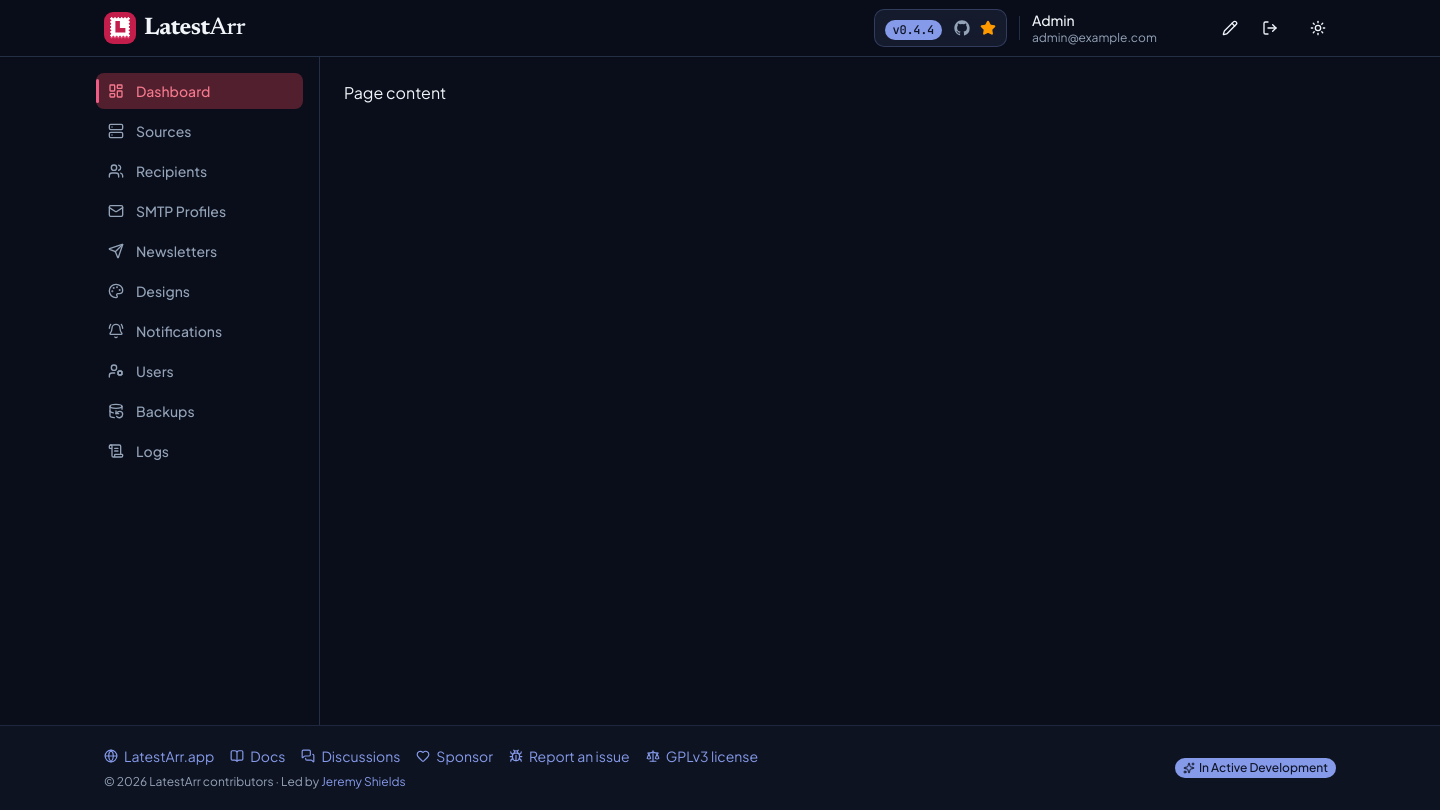
Test: AppShell › edits the display name through the Edit profile dialog
The image size is (1440, 810).
Check: the text "Admin" is shown, box x1=1032 y1=10 x2=1075 y2=30
Click the button named "Edit profile" at (1230, 28), box x1=1212 y1=10 x2=1248 y2=46
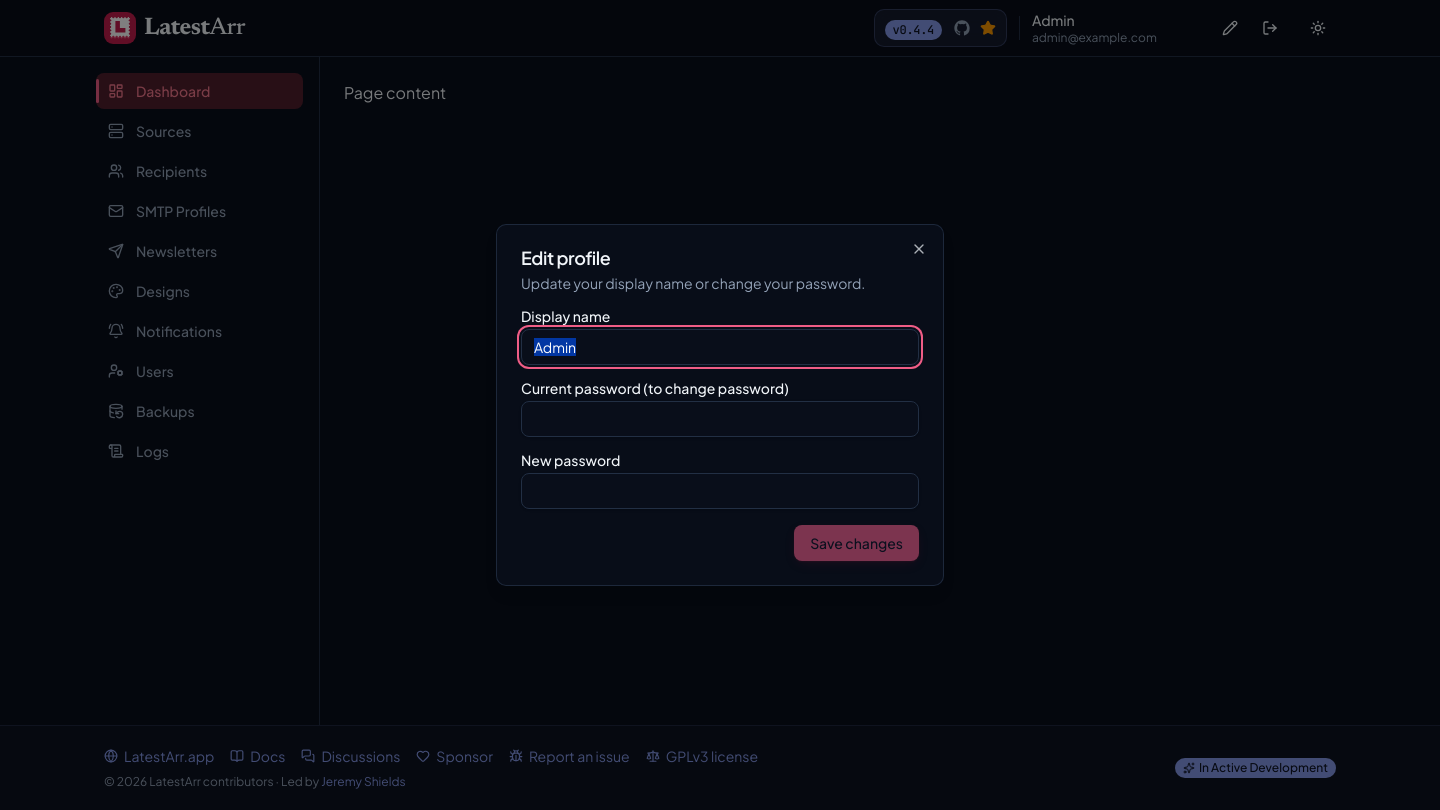
Check: the field labelled "Display name" holds "Admin"
Replace the text in the field labelled "Display name" with "New Name" at (720, 347), box x1=521 y1=329 x2=919 y2=365
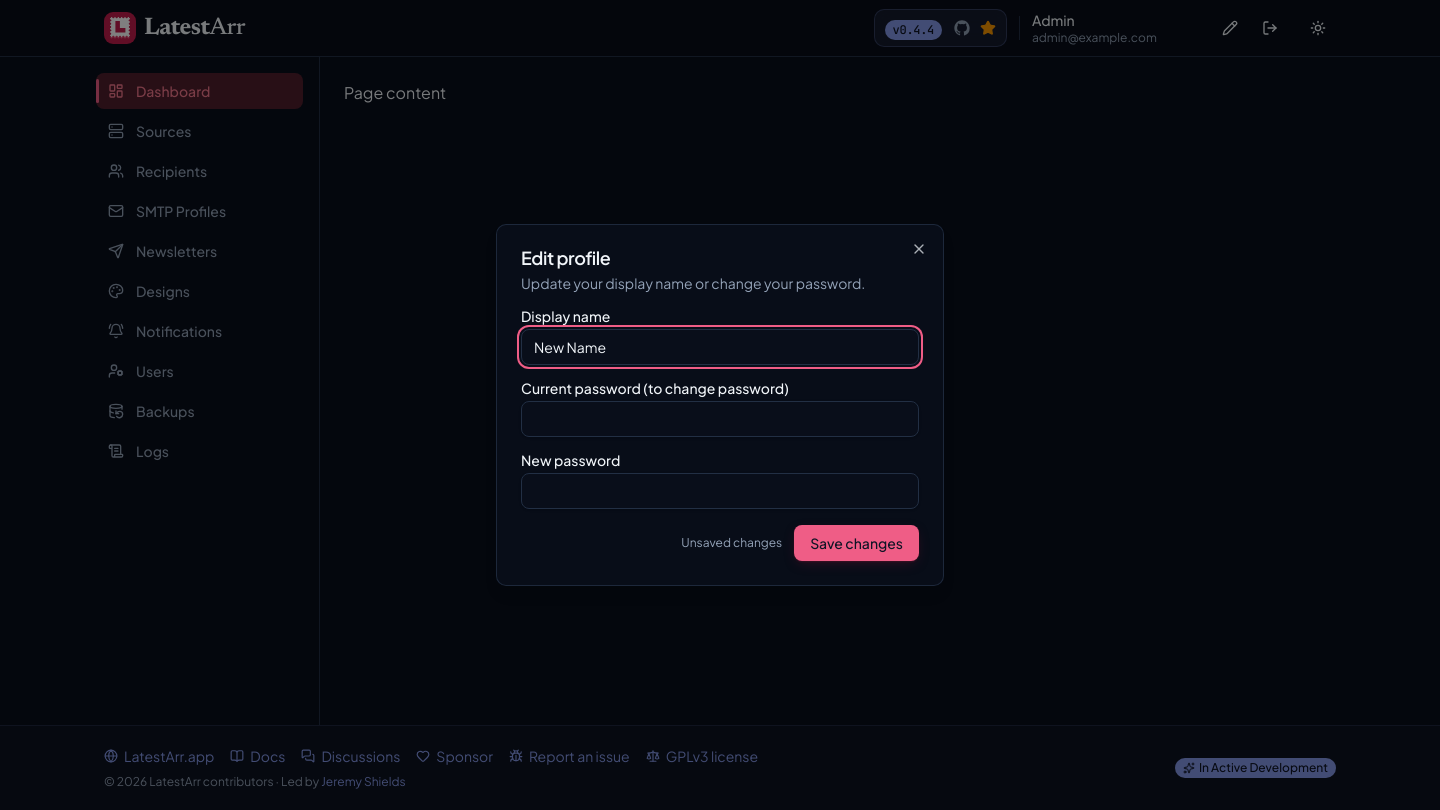
Click the button "Save changes" at (857, 543), box x1=794 y1=525 x2=919 y2=561
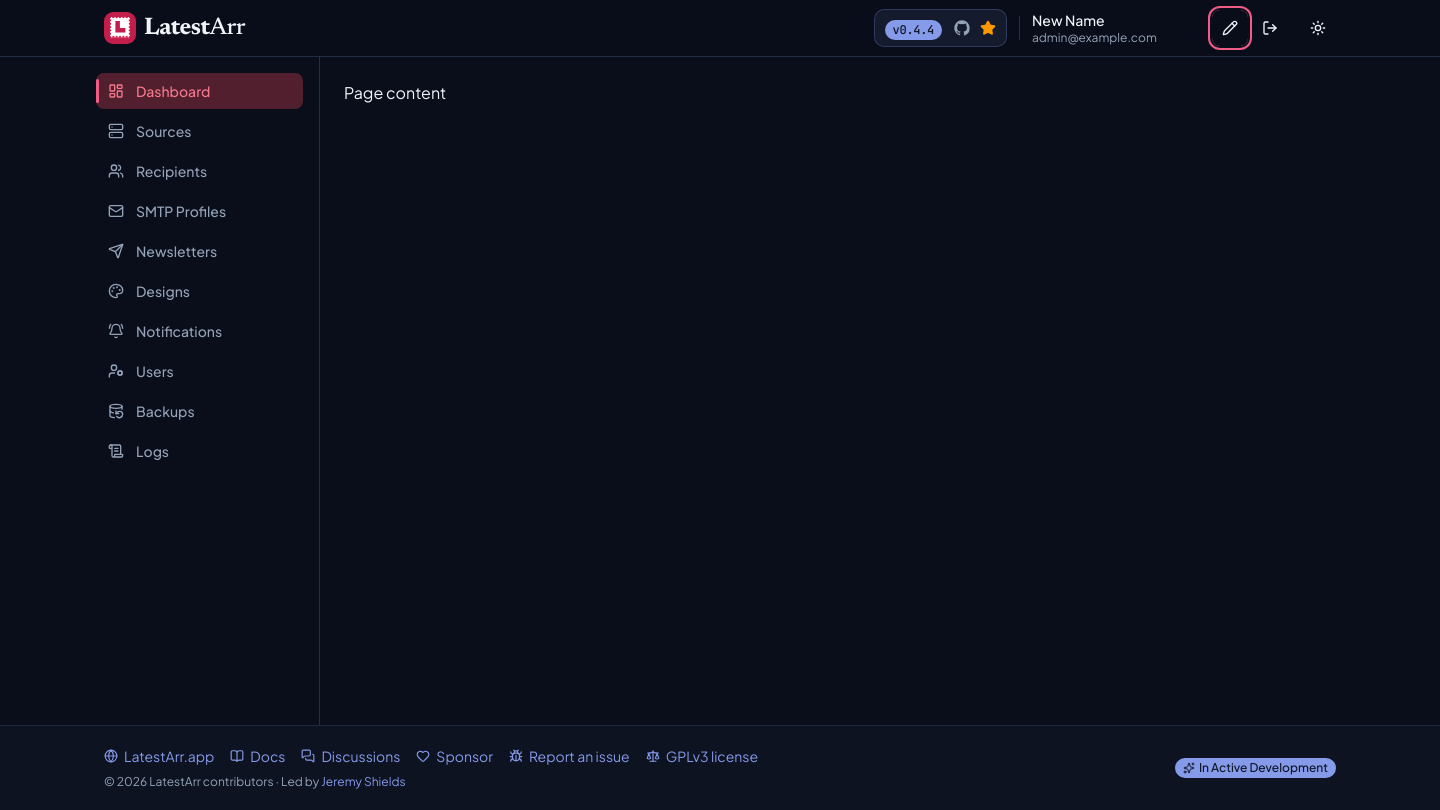
Check: the dialog is gone
Check: the text "New Name" is shown, box x1=1032 y1=10 x2=1105 y2=30
